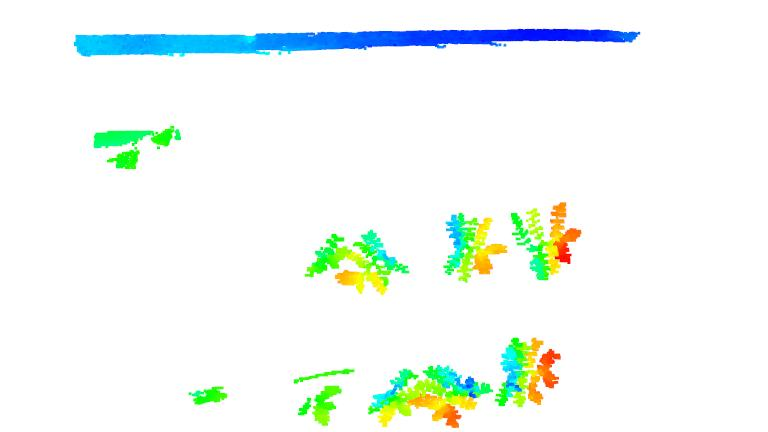chickpea: (509, 199, 582, 279), (490, 333, 561, 408), (438, 209, 507, 283), (335, 229, 409, 295), (422, 363, 494, 427), (364, 364, 420, 428), (296, 380, 343, 426), (304, 233, 352, 278)
